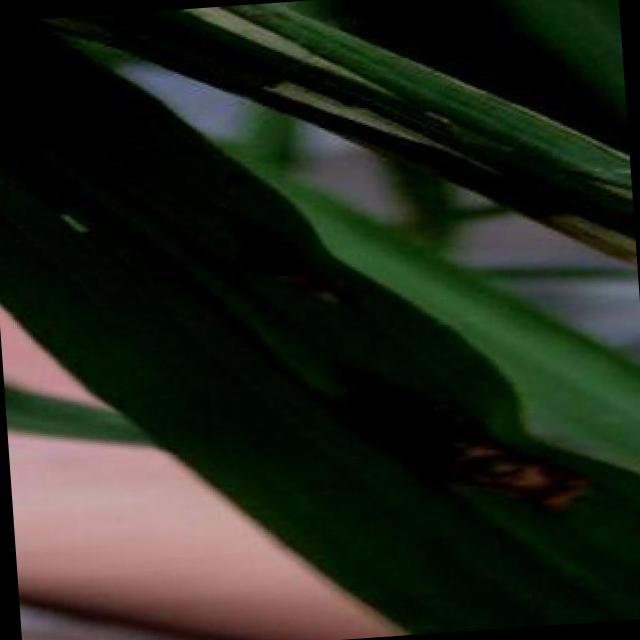Rice_Blast: (301, 336, 600, 554), (178, 182, 353, 338)
